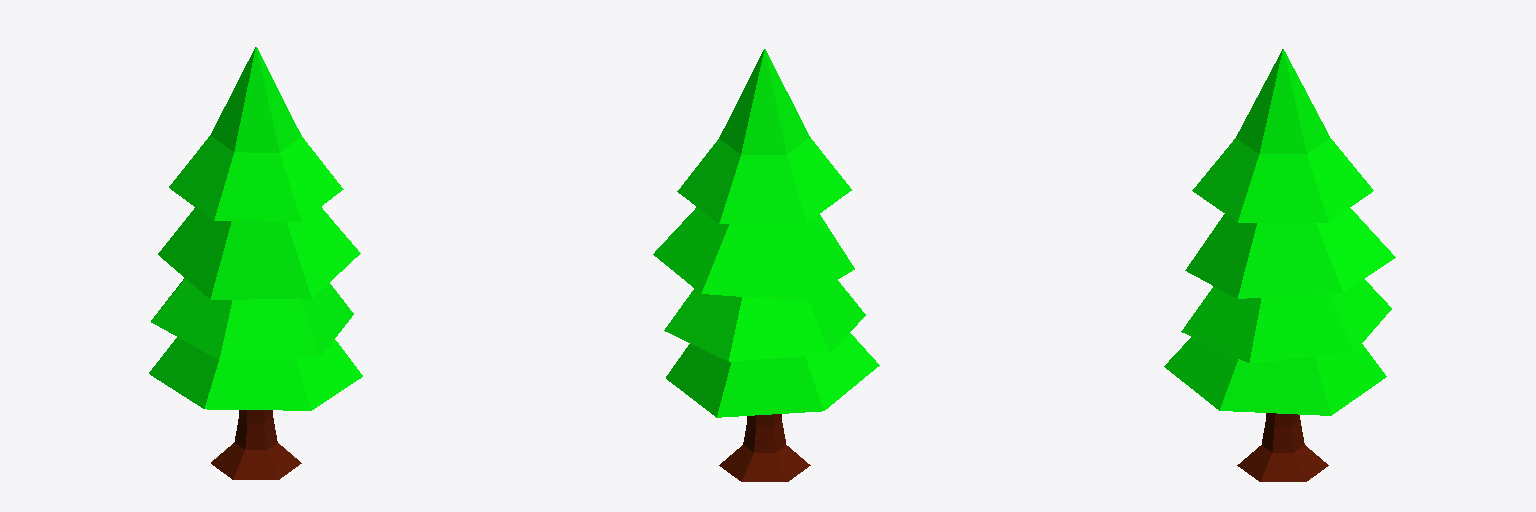
File: tree.obj
3 renders of one model, left to right at view 1: azimuth 30°, elevation 25°; view 2: azimuth 150°, elevation 25°; view 3: azimuth 270°, elevation 25°, orthographic.
Visible parts, largest first — view 1: Cone, Cone.001_Cone, Cone.002_Cone, Cone.003_Cone, Cylinder; view 2: Cone, Cone.001_Cone, Cone.003_Cone, Cone.002_Cone, Cylinder; view 3: Cone, Cone.001_Cone, Cone.002_Cone, Cone.003_Cone, Cylinder.
Boxes of the visible parts, x1,y1,x2,y2 form: Cone: [169, 47, 343, 221]; Cone.001_Cone: [158, 207, 360, 299]; Cone.002_Cone: [151, 278, 353, 359]; Cone.003_Cone: [149, 337, 362, 410]; Cylinder: [211, 410, 301, 479]; Cone: [677, 49, 851, 223]; Cone.001_Cone: [653, 207, 854, 300]; Cone.003_Cone: [666, 333, 879, 417]; Cone.002_Cone: [664, 280, 865, 361]; Cylinder: [719, 414, 810, 481]; Cone: [1192, 49, 1373, 222]; Cone.001_Cone: [1185, 208, 1395, 298]; Cone.002_Cone: [1181, 279, 1391, 363]; Cone.003_Cone: [1164, 337, 1386, 415]; Cylinder: [1237, 413, 1328, 481].
Size of the model in its own units: 5.67 by 13.52 by 6.82.